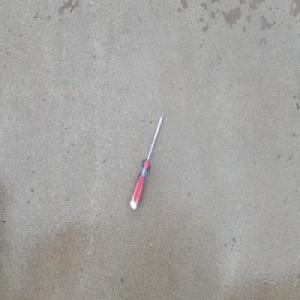Screwdriver: (128, 106, 166, 211)
